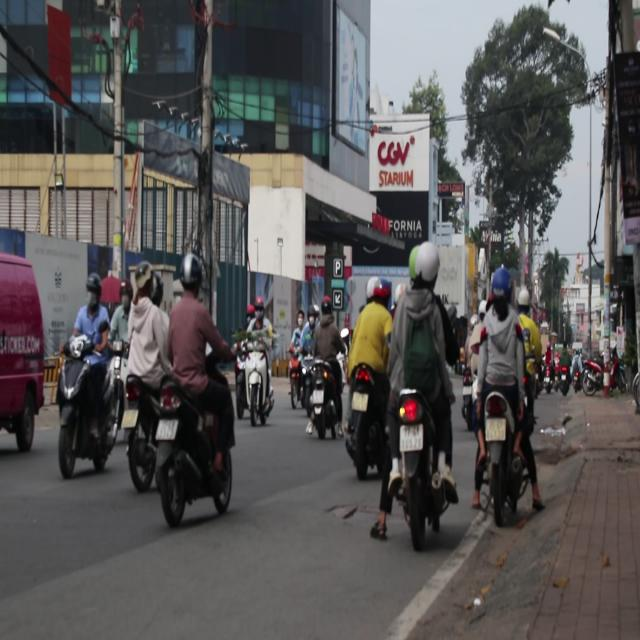motorbike: (377, 384, 452, 550), (155, 376, 234, 526), (55, 341, 122, 479), (234, 329, 278, 426), (124, 378, 160, 494), (302, 354, 343, 440), (289, 348, 307, 411), (582, 359, 604, 397)
truck: (0, 238, 46, 456)
